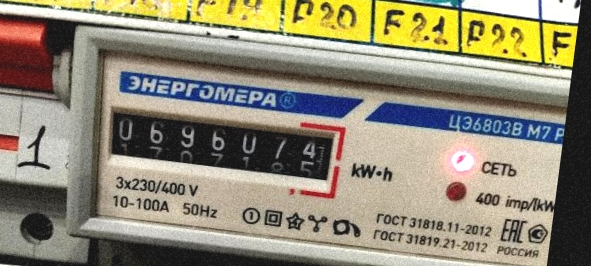0: (112, 114, 134, 141), (239, 127, 258, 155)
4: (300, 134, 318, 160)
5: (297, 158, 314, 177)
6: (145, 116, 167, 145), (207, 125, 227, 151)
7: (267, 132, 288, 160)
9: (175, 121, 197, 148)
screen: (90, 89, 351, 202)
